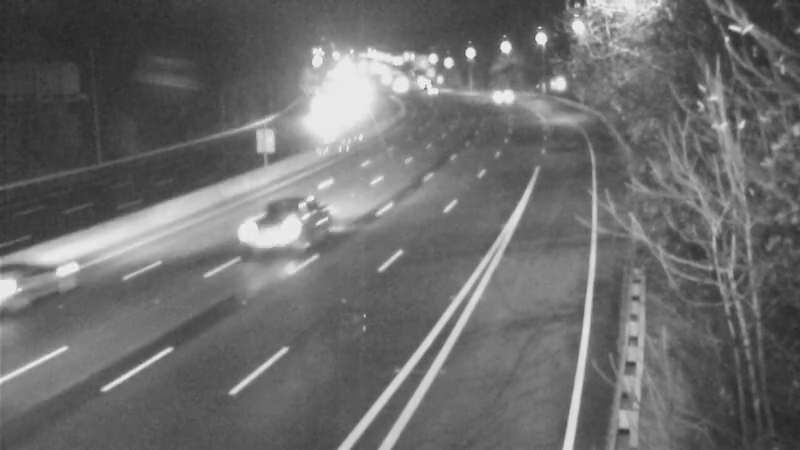vehicle: (232, 184, 312, 264), (1, 243, 78, 323), (397, 57, 447, 107), (358, 53, 408, 103), (373, 61, 423, 111), (408, 66, 458, 116), (480, 70, 530, 120), (289, 93, 339, 143)
